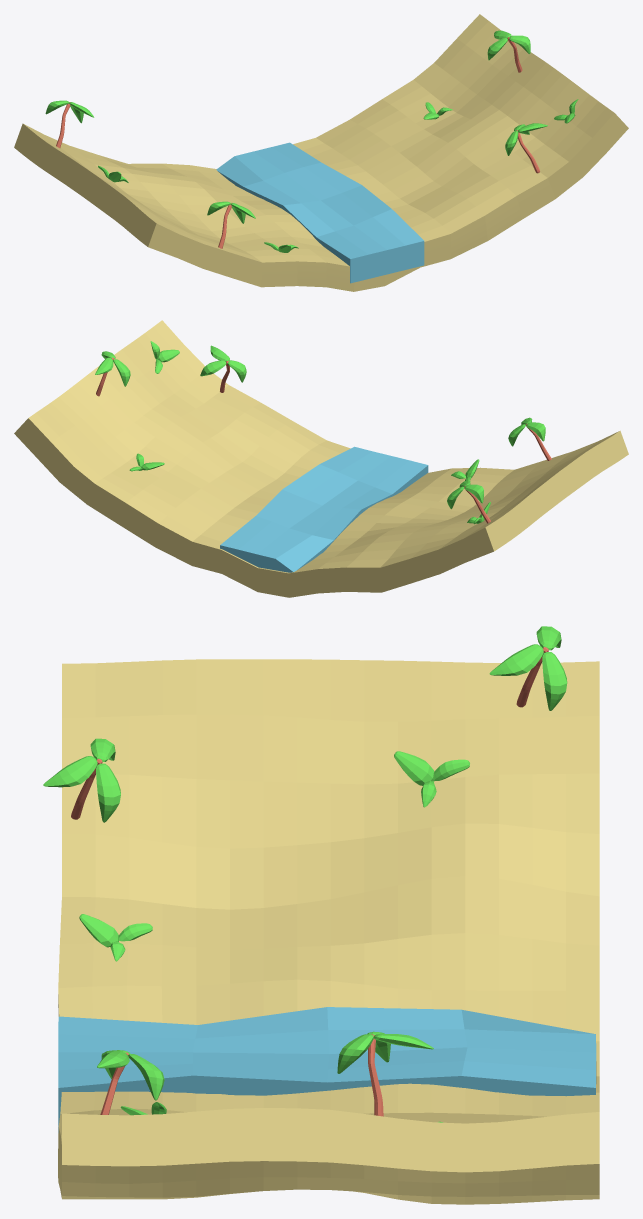
File: desert1.fbx
3 renders of one model, top to bottom at view 1: azimuth 30°, elevation 25°; view 2: azimuth 150°, elevation 25°; view 3: azimuth 270°, elevation 25°, orthographic. The views are drawn at different scales.
Parts seen in each view (by area): view 1: Cube, Cube.001; view 2: Cube, Cube.001, Plane.019; view 3: Cube, Cube.001, Plane.017, Plane.018, Plane.013, Plane.009, Plane.014, Plane.010.
Part boxes in pixels (<box>): Cube: <box>14,14,628,291</box>; Cube.001: <box>216,142,424,283</box>; Cube: <box>14,320,628,597</box>; Cube.001: <box>220,446,428,572</box>; Plane.019: <box>150,341,179,373</box>; Cube: <box>58,659,599,1204</box>; Cube.001: <box>58,1007,596,1132</box>; Plane.017: <box>394,751,469,807</box>; Plane.018: <box>79,914,152,961</box>; Plane.013: <box>542,652,567,710</box>; Plane.009: <box>96,763,120,822</box>; Plane.014: <box>489,644,543,675</box>; Plane.010: <box>43,756,97,787</box>.
Bounding box in the file's own units: 4149 × 1208 × 2069.
